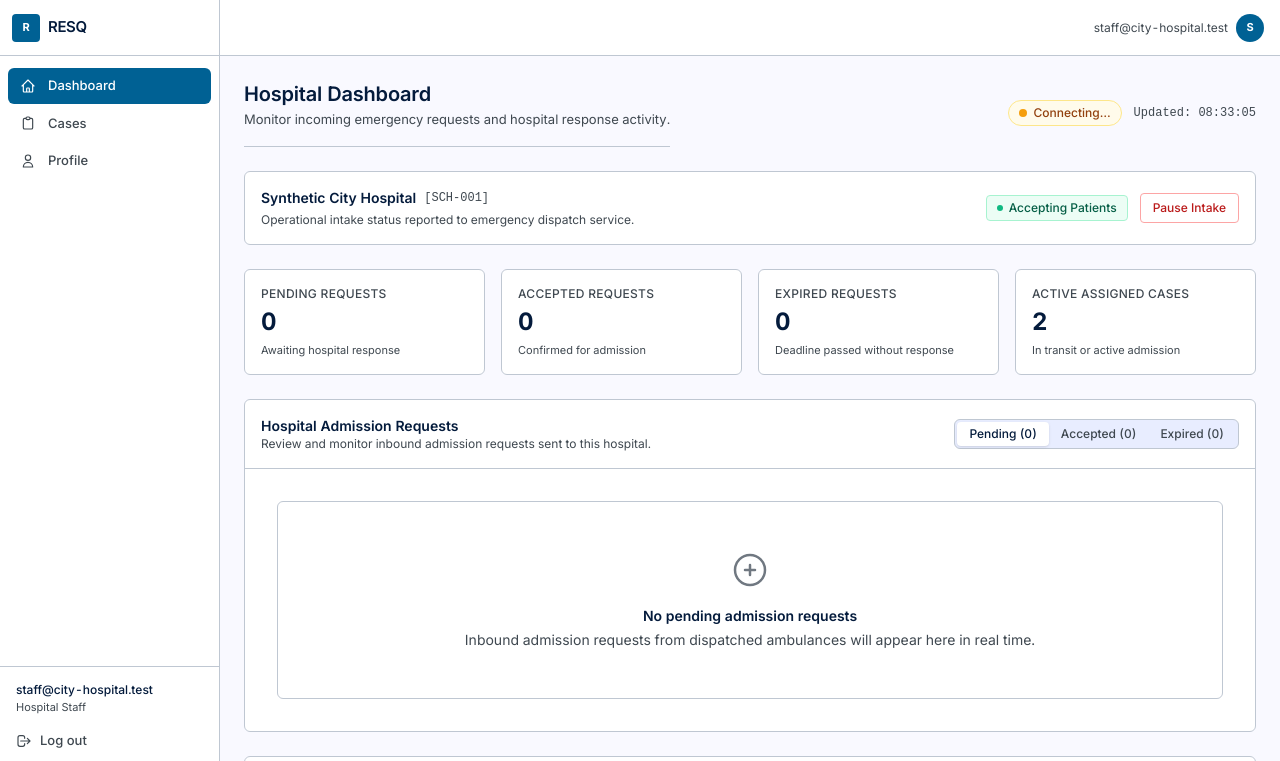
Test: HospitalDashboard — Initial Rendering & State › shows empty state when no requests exist for a tab
The image size is (1280, 761).
Check: the heading "No pending admission requests" is shown, box [643,606,857,626]
// Switch to Accepted tab
Click the button "Accepted (0)" at (1099,434), box [1049,422,1148,446]
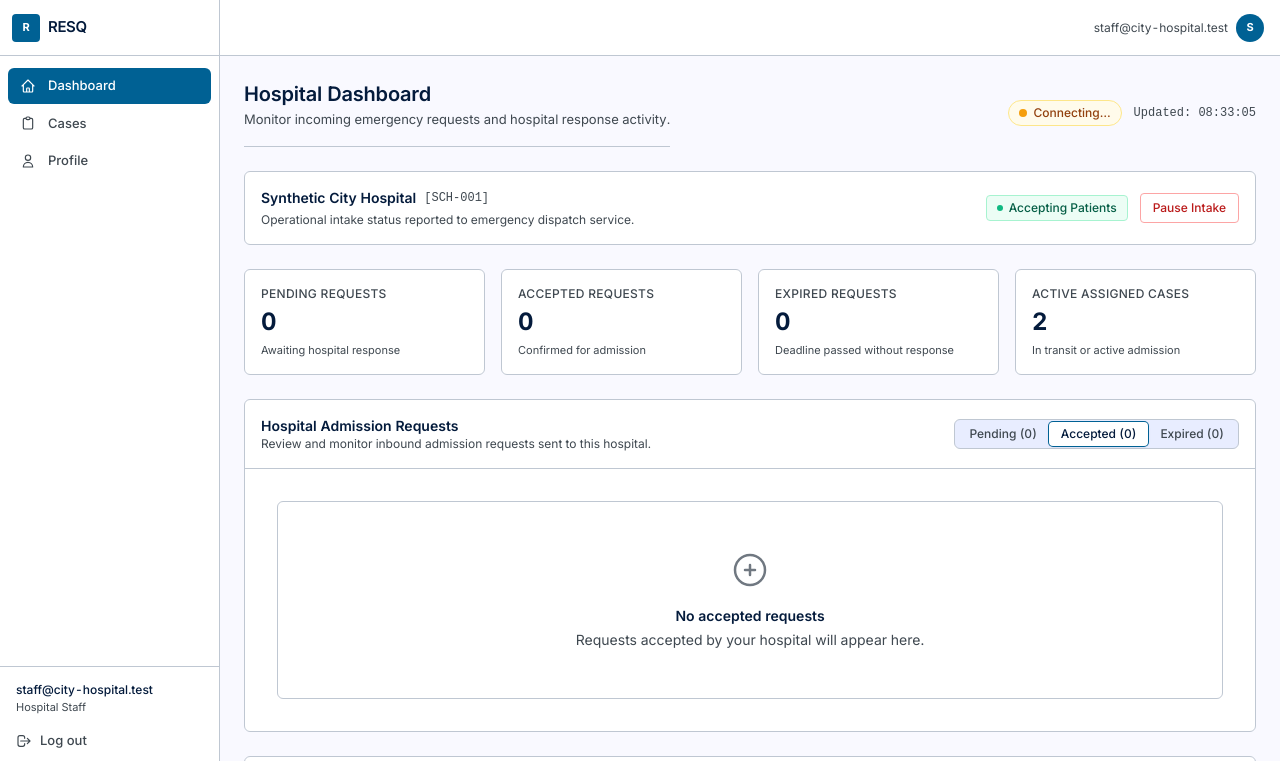
Check: the heading "No accepted requests" is shown, box [675,606,825,626]
